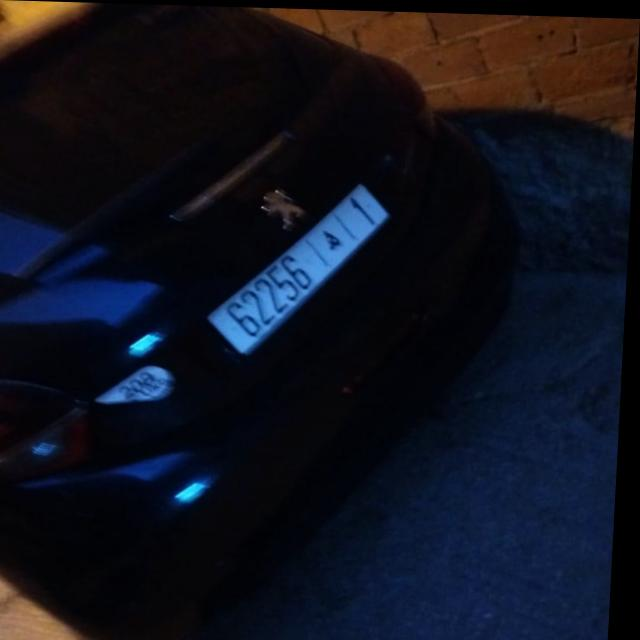License-Plate: (212, 182, 391, 352)
